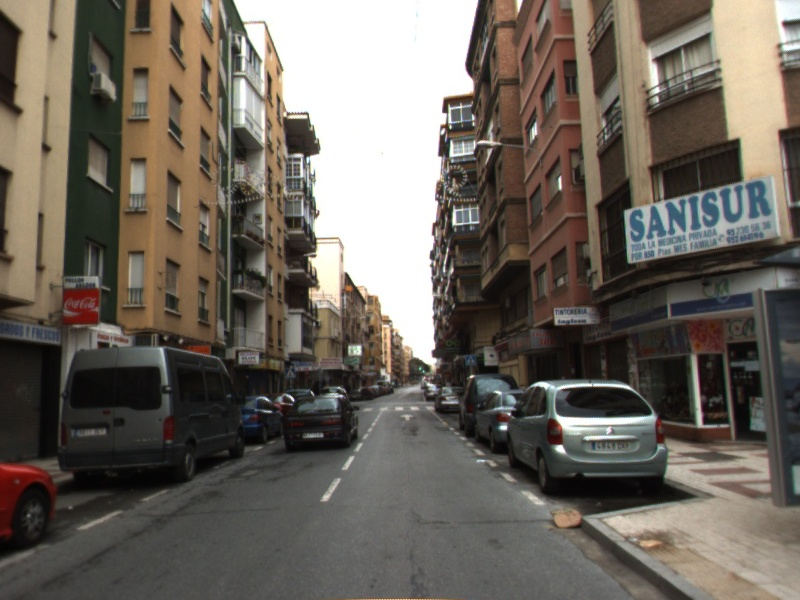STRAIGHT: (397, 412, 416, 422)
